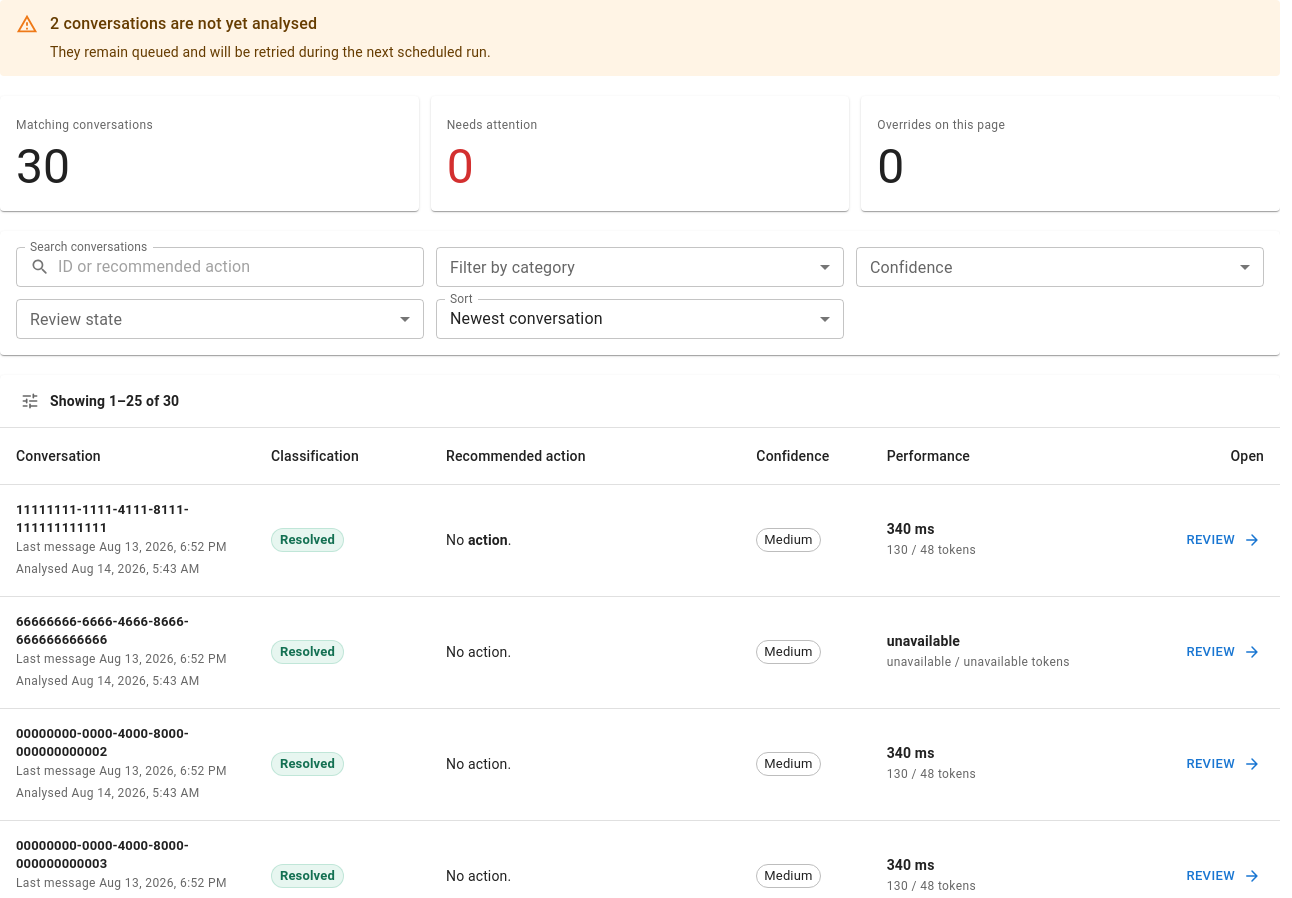
Scenario: ReviewerTable › filters conversations that have missing telemetry
The image size is (1292, 898).
Check: the link "11111111-1111-4111-8111-111111111111" is shown, box 16,502 -> 189,535
Click the dropdown named "Review state" next to "Review state".
click(220, 319)  # box 16,299 -> 424,339
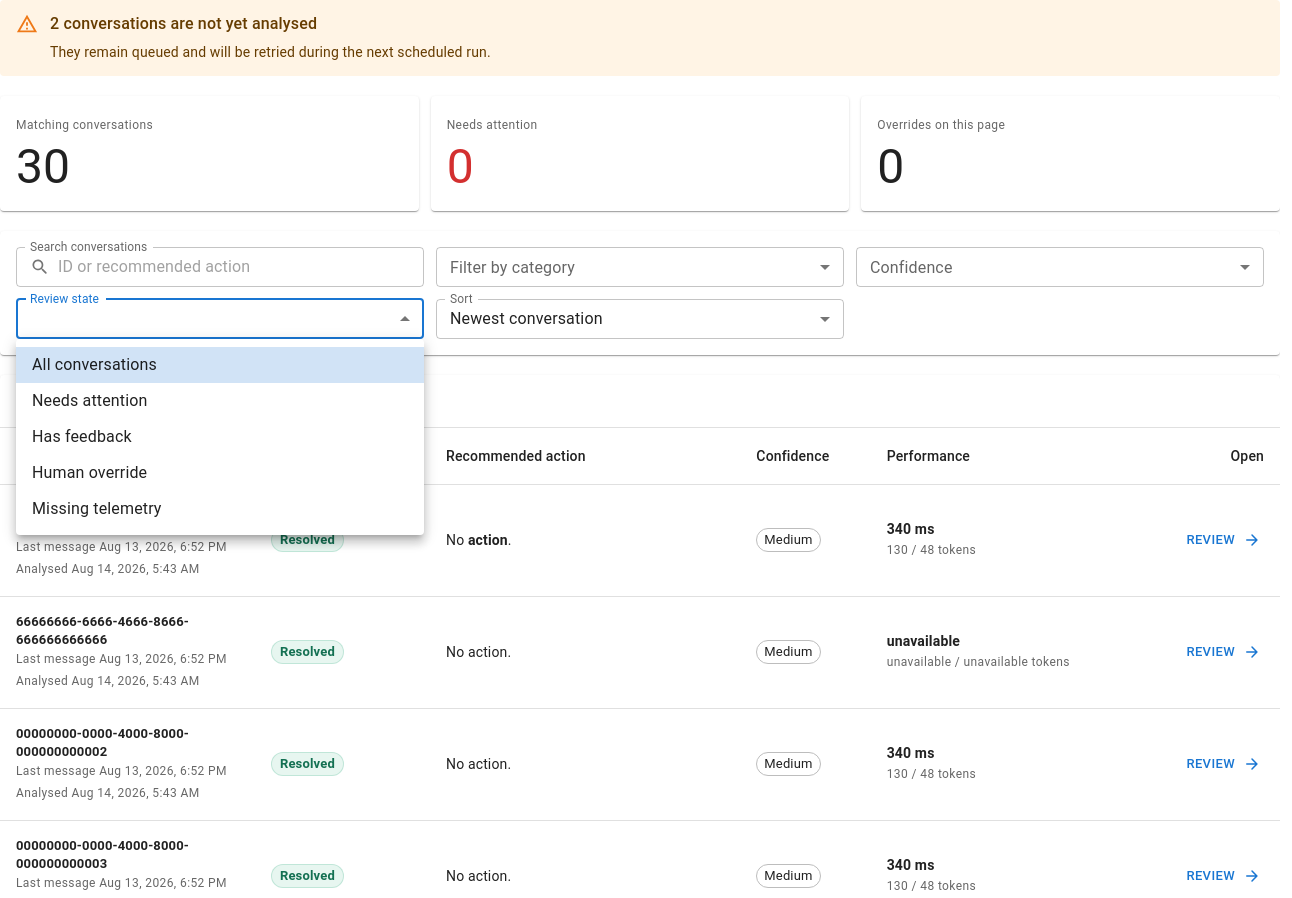
Click the option "Missing telemetry".
click(97, 508)  # box 32,499 -> 162,518
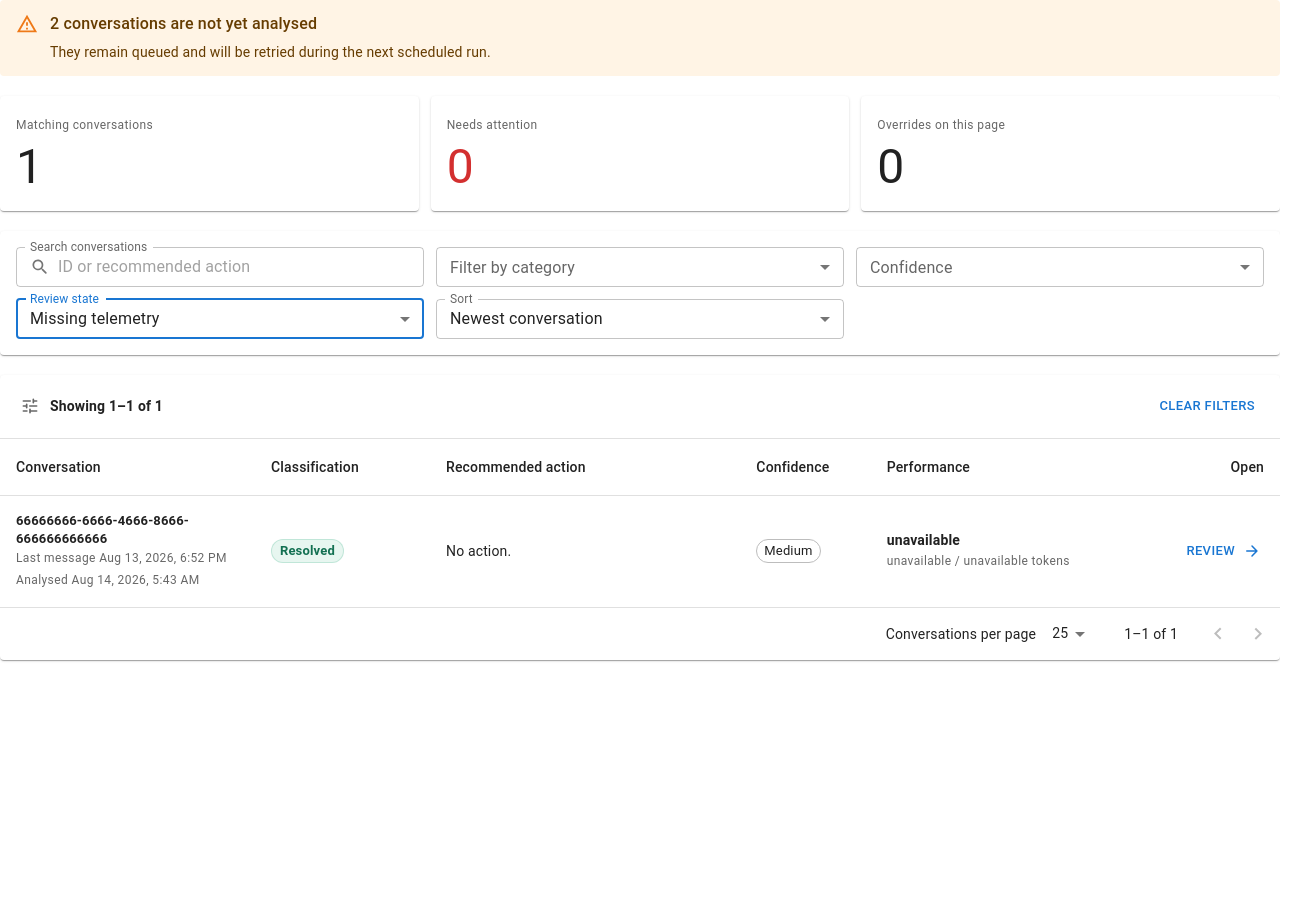
Check: the link "66666666-6666-4666-8666-666666666666" is shown, box 16,513 -> 189,546
Check: the link "11111111-1111-4111-8111-111111111111" is gone
